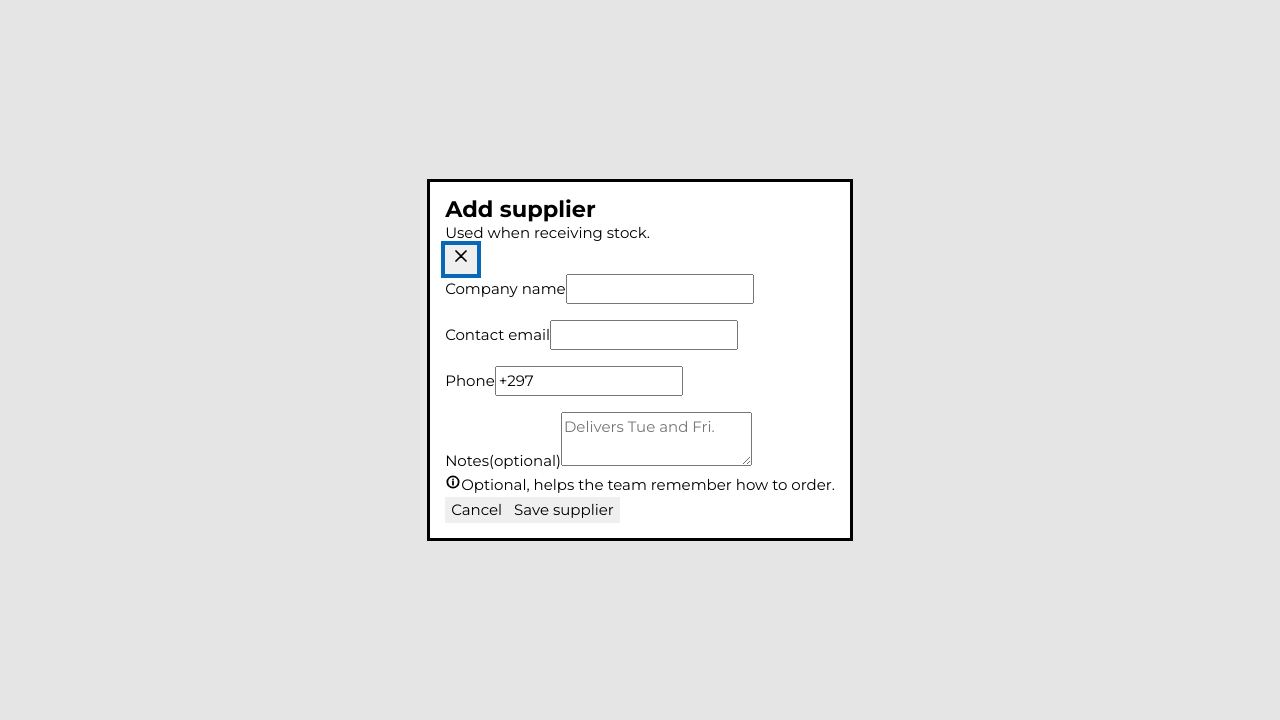
SupplierModal › saves a valid supplier, tells it in a toast and closes
In the field labelled "Company name": (660, 289) [566,274,754,304], type "Caribbean Vet Supply"
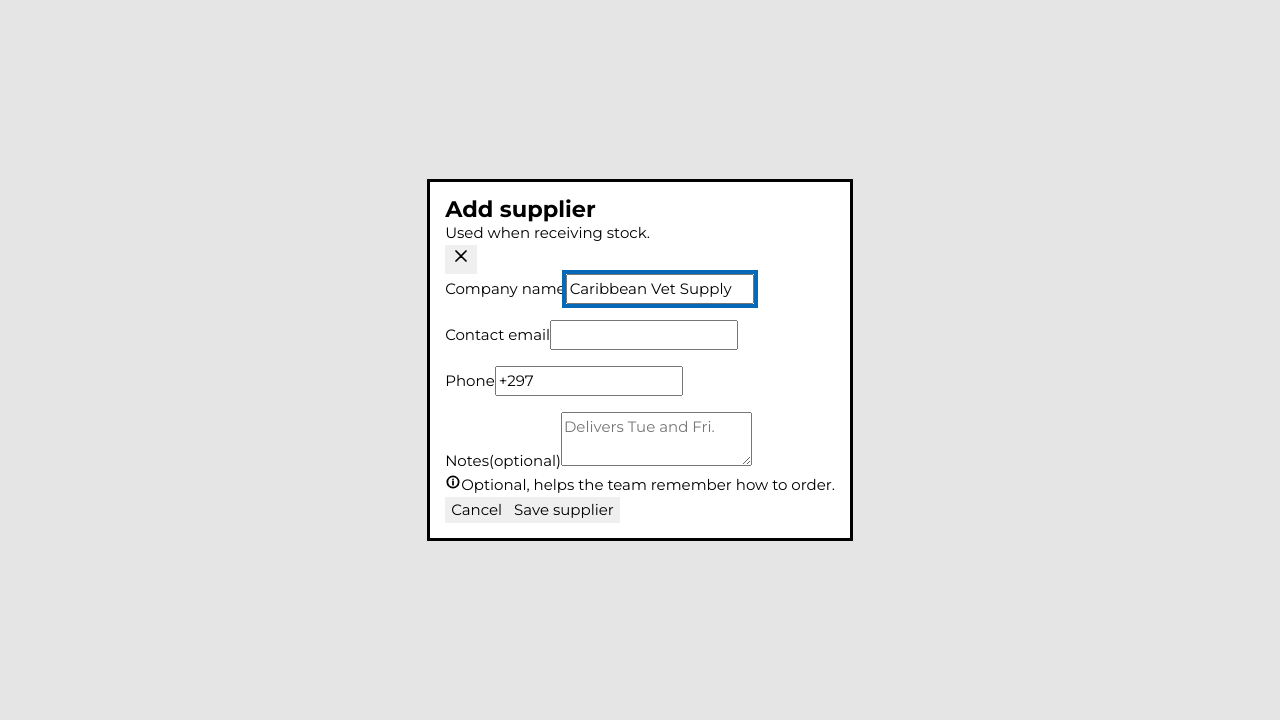
In the field labelled "Contact email": (644, 335) [550,320,738,350], type "orders@cvs.example"
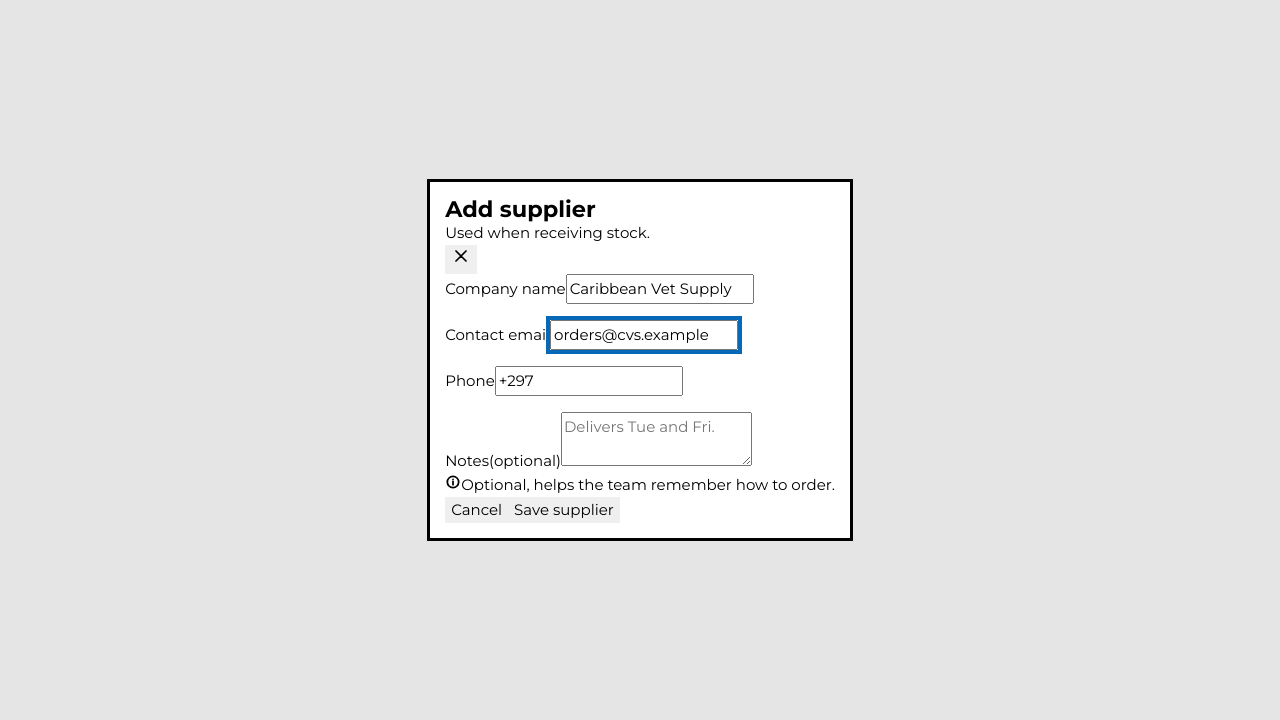
In the field labelled "Phone": (589, 381) [495,366,683,396], type "582 0000"
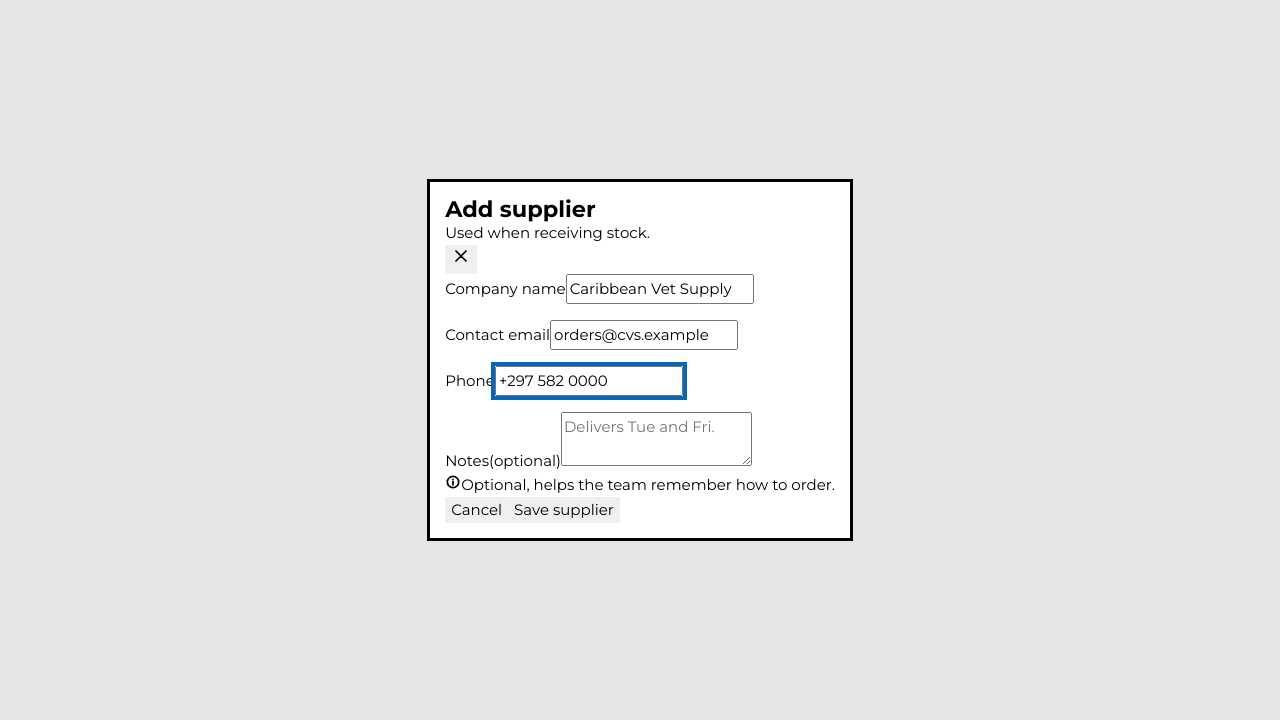
Click the button "Save supplier": (564, 510) [508,497,620,523]
Wait 900 ms
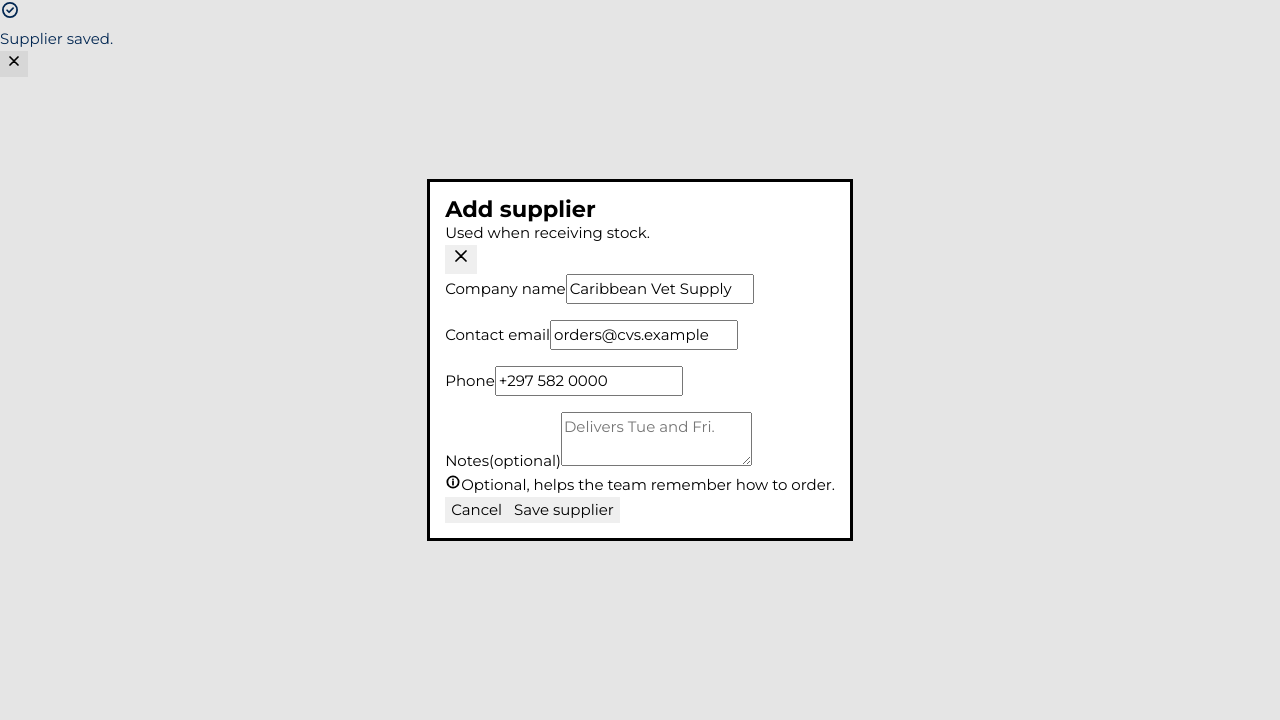
expect the text "Supplier saved." is shown: met, box [0,29,113,48]
